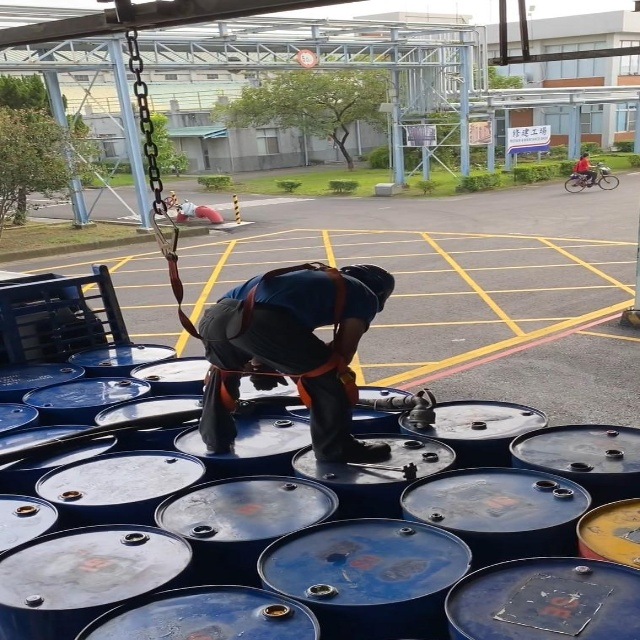Arnes_seguridad: (196, 263, 361, 420)
